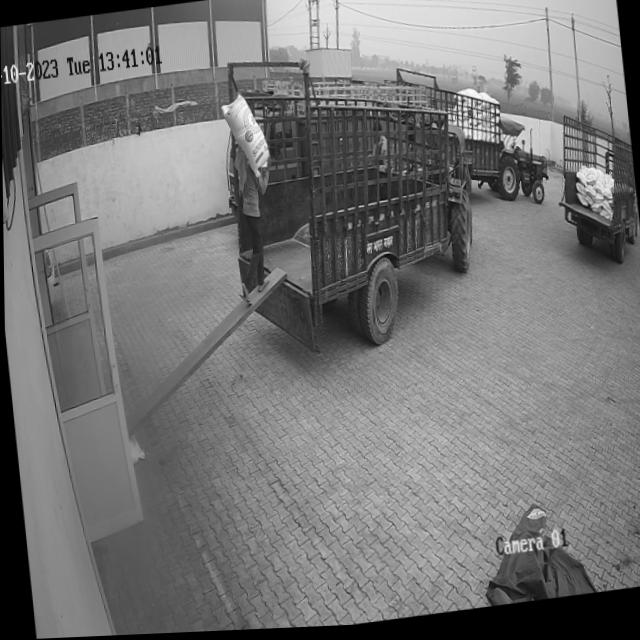sack: (219, 93, 271, 181)
